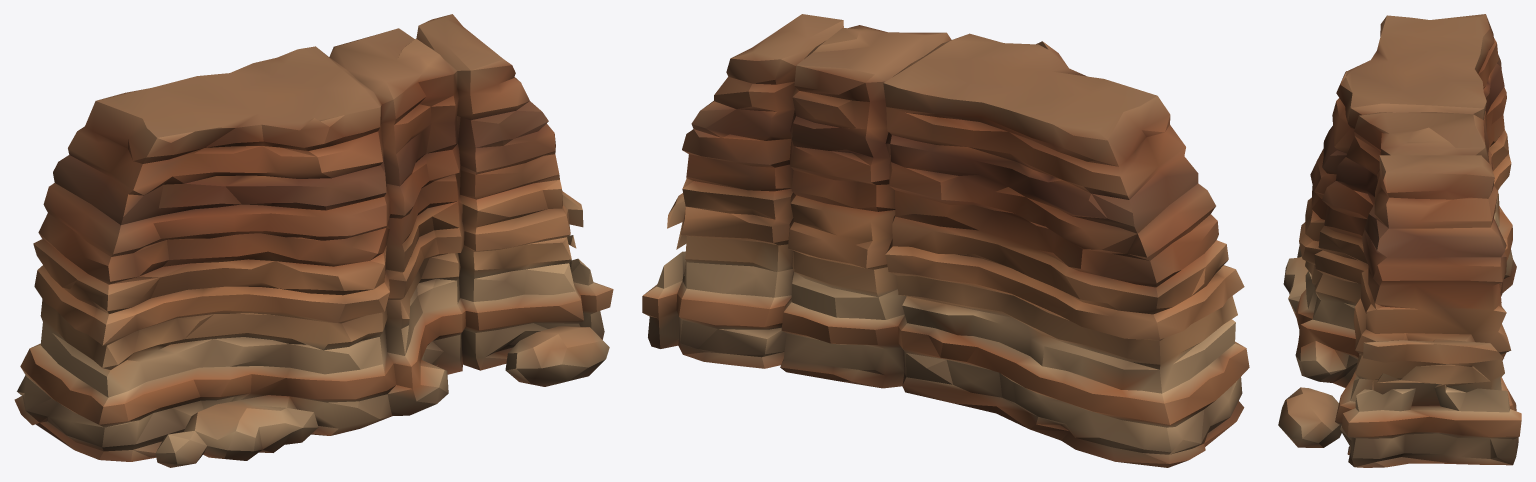
The model's file is cliff_a.glb.
The picture shows the model from 3 angles, left to right: view 1: azimuth 30°, elevation 25°; view 2: azimuth 150°, elevation 25°; view 3: azimuth 270°, elevation 25°; orthographic projection. The views are drawn at different scales.
Visible parts, largest first — view 1: CliffA; view 2: CliffA; view 3: CliffA.
Boxes of the visible parts, x1,y1,x2,y2 form: CliffA: (14, 14, 613, 467); CliffA: (642, 14, 1249, 467); CliffA: (1278, 14, 1521, 467).
Size of the model in its own units: 28.42 by 15.7 by 12.8.
